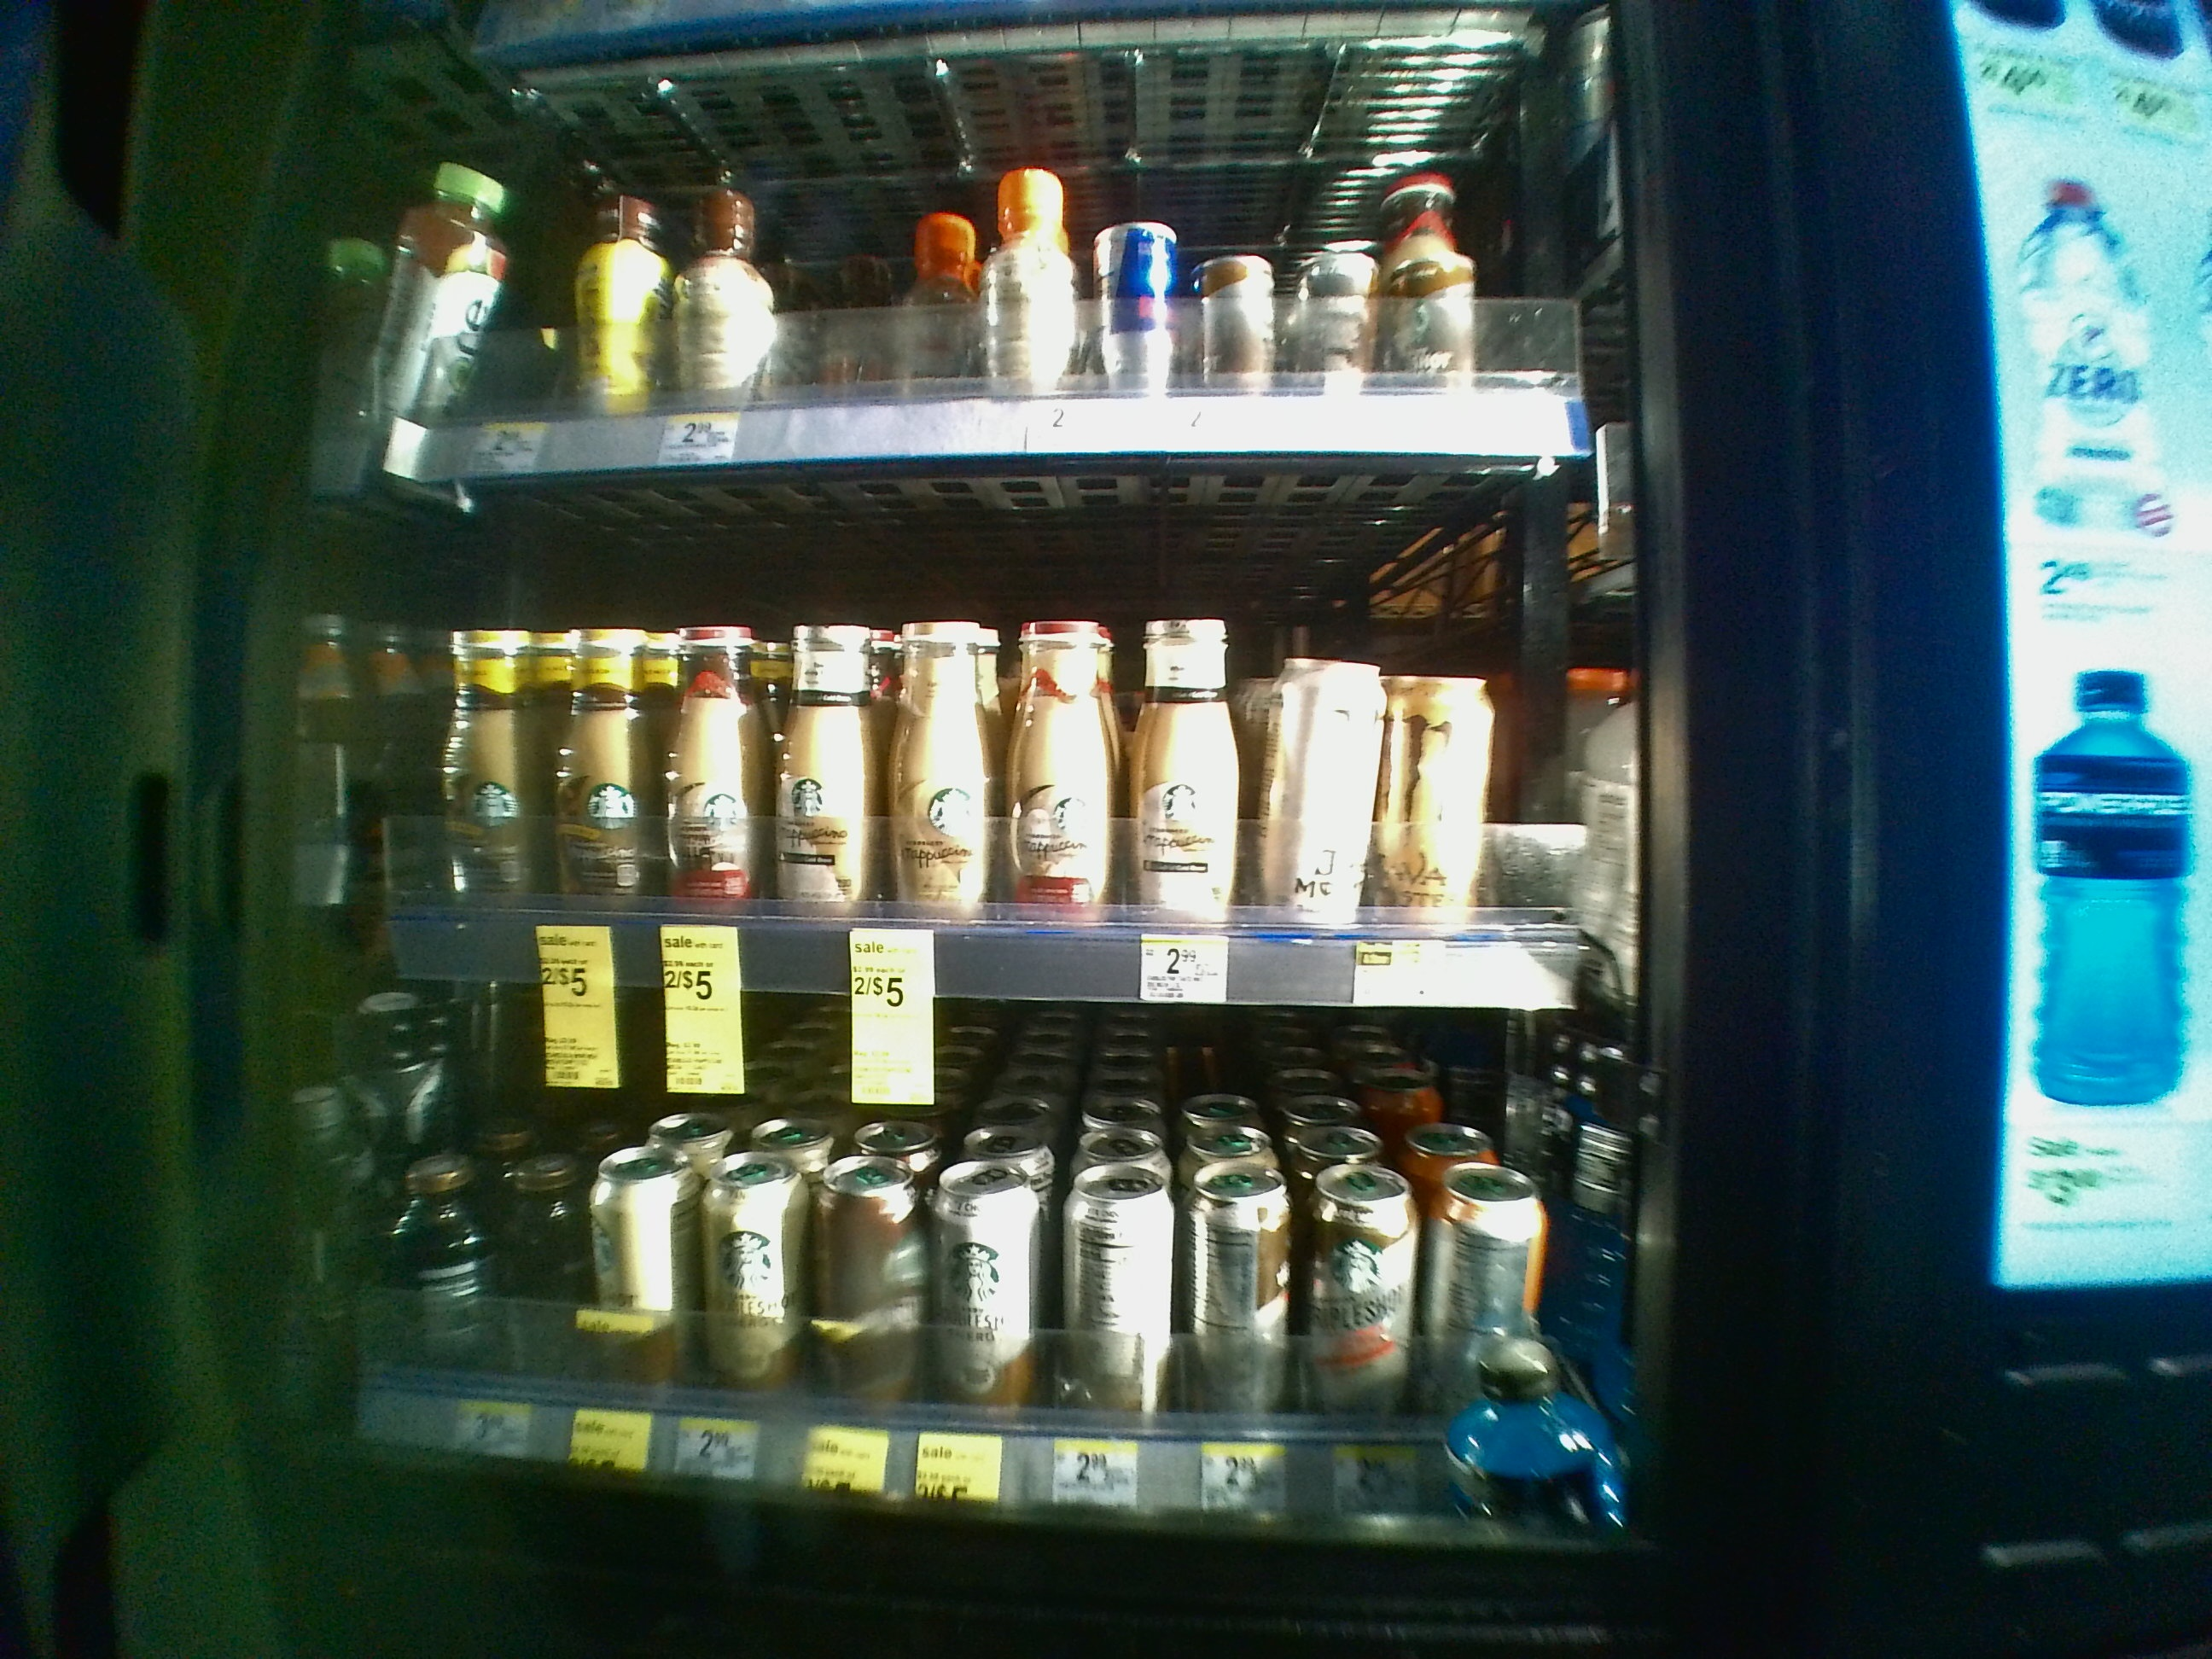shelf: (291, 983, 1677, 1542), (307, 477, 1681, 997)
